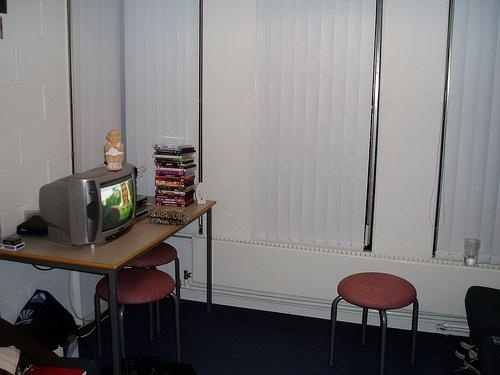tvmonitor: (36, 164, 142, 249)
